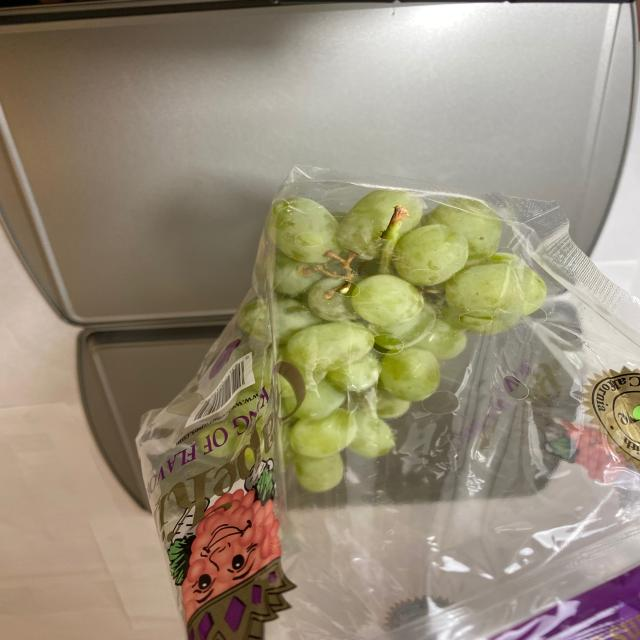grapes: (180, 192, 544, 500)
